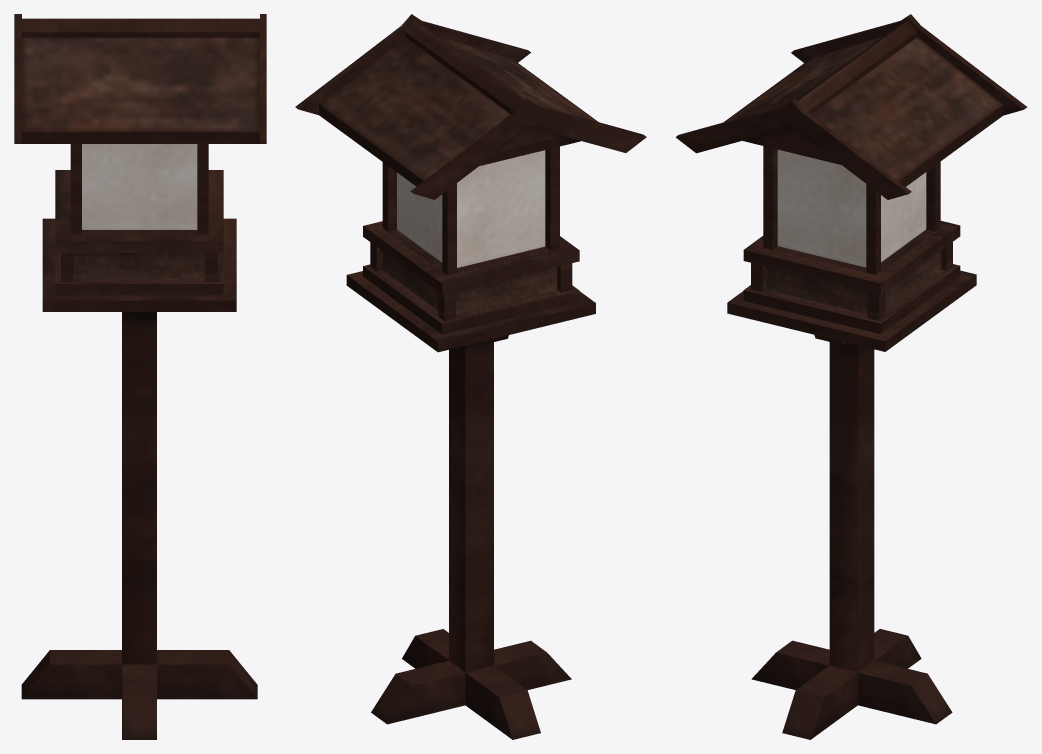
File: obj_japanese_standing_lantern_70aed3.glb
3 views of the same model, side by side, from view 1: azimuth 30°, elevation 25°; view 2: azimuth 150°, elevation 25°; view 3: azimuth 270°, elevation 25° (orthographic). The views are drawn at different scales.
Visible parts, largest first — view 1: obj_japanese_standing_lantern_70aed3; view 2: obj_japanese_standing_lantern_70aed3; view 3: obj_japanese_standing_lantern_70aed3.
Part boxes in pixels (box(x1,y1,x2,y2)): obj_japanese_standing_lantern_70aed3: box(14, 14, 266, 739); obj_japanese_standing_lantern_70aed3: box(295, 14, 646, 739); obj_japanese_standing_lantern_70aed3: box(675, 14, 1027, 739).
Size of the model in its own units: 0.2658 by 0.55 by 0.2749.
1 material, 1 textured.
